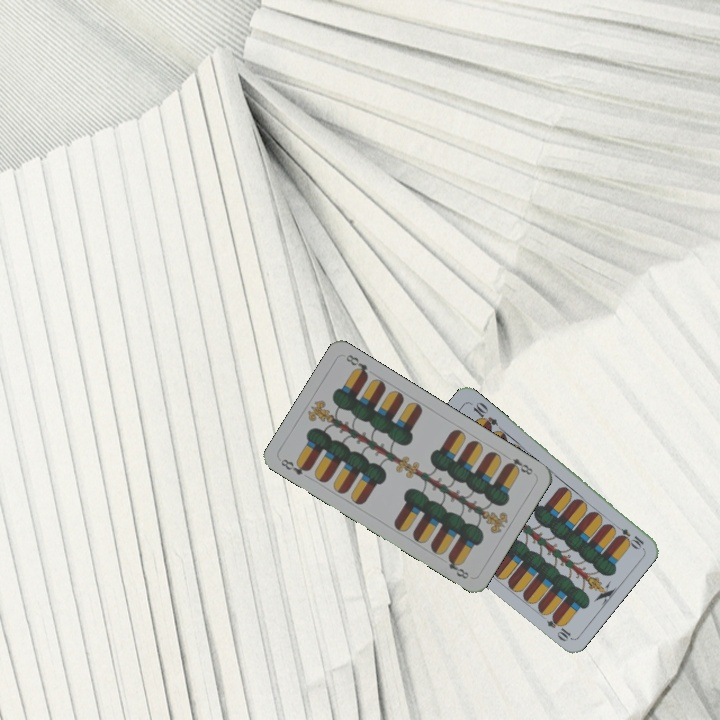E10: (610, 520, 646, 551)
E8: (502, 454, 536, 478), (277, 455, 312, 478)
